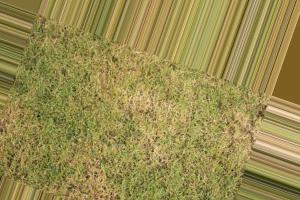patch: (111, 86, 176, 130), (38, 131, 113, 168), (144, 135, 165, 152)
